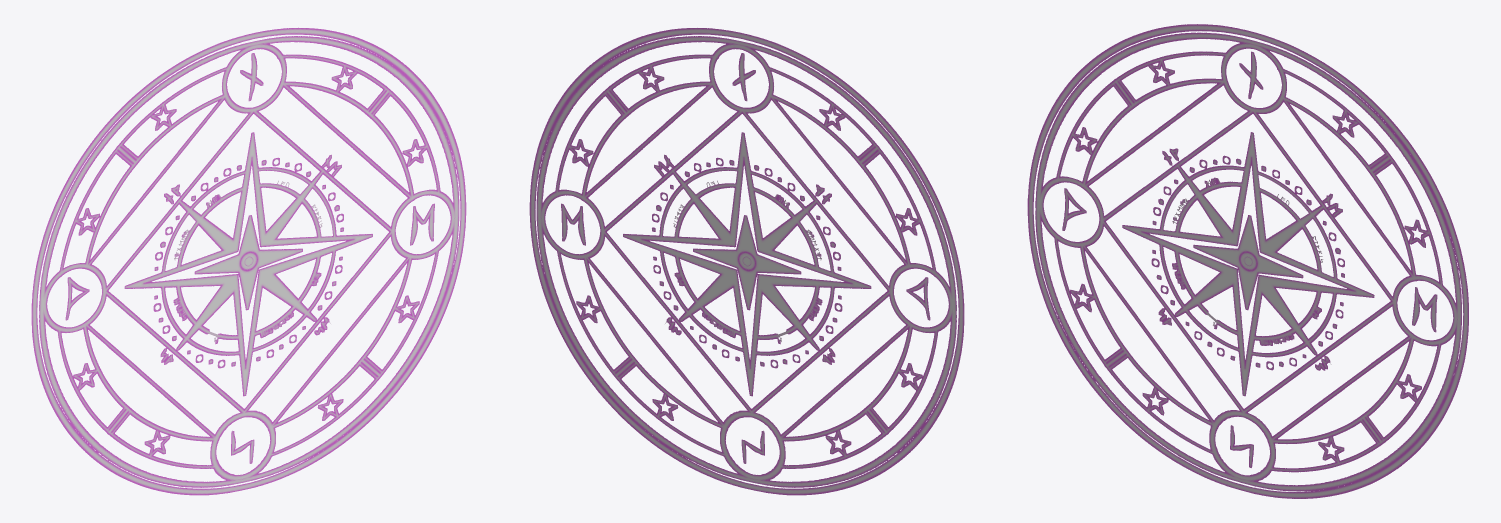
Rendered from Portal_Circle-Space.fbx.
3 renders of one model, left to right at view 1: azimuth 30°, elevation 25°; view 2: azimuth 150°, elevation 25°; view 3: azimuth 330°, elevation 25°, orthographic.
Visible parts, largest first — view 1: Portal_Circle-Space; view 2: Portal_Circle-Space; view 3: Portal_Circle-Space.
Boxes of the visible parts, x1=… form: Portal_Circle-Space: x1=31, y1=27, x2=466, y2=495; Portal_Circle-Space: x1=529, y1=28, x2=964, y2=495; Portal_Circle-Space: x1=1027, y1=24, x2=1468, y2=498.
Bounding box in the file's own units: 2775 × 2775 × 0.0149.
1 material, 1 textured.
